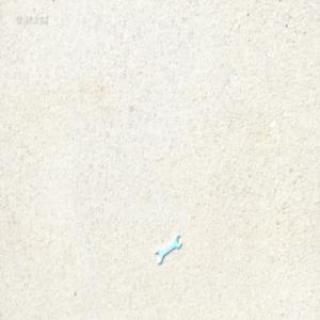Wrenchtrack_idkeyframe: (153, 234, 180, 265)
